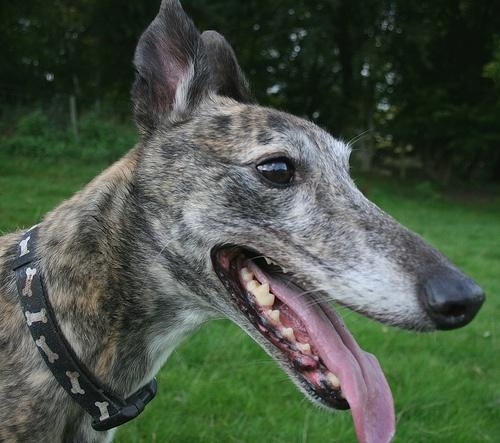dog: (2, 4, 484, 442)
